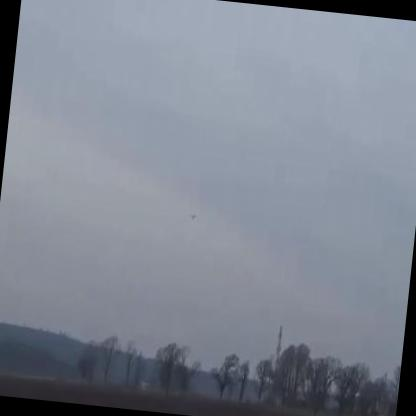plane: (187, 210, 200, 225)
